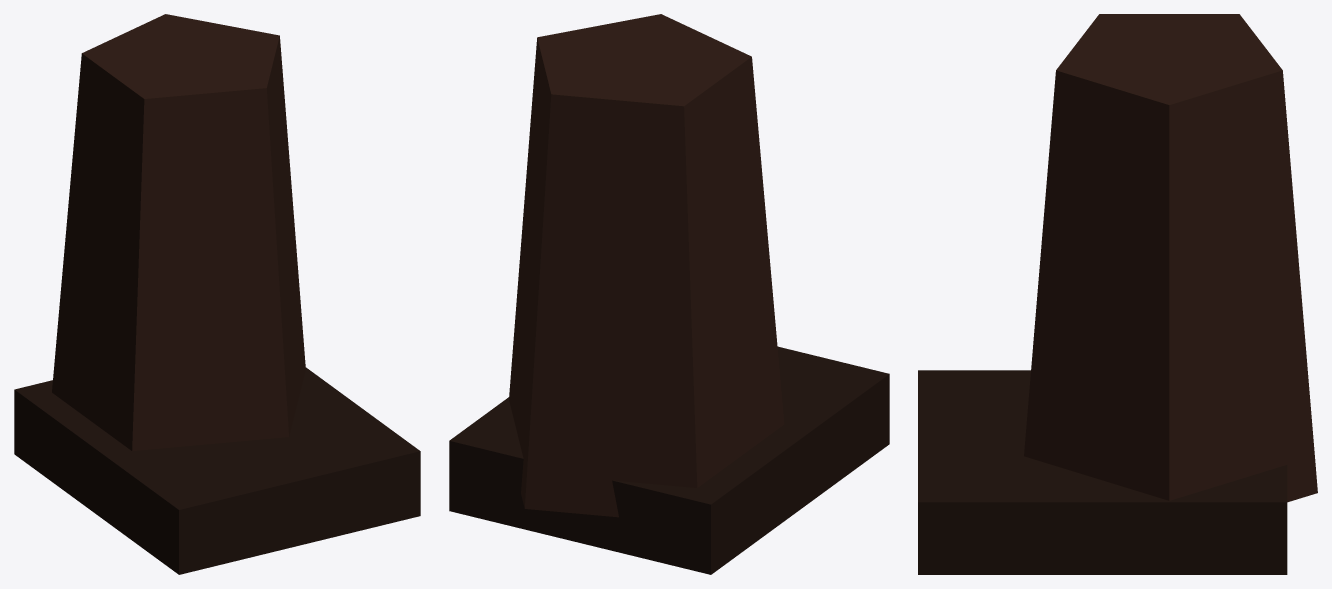
Rendered from dk_mob_boar_leg.glb.
3 renders of one model, left to right at view 1: azimuth 30°, elevation 25°; view 2: azimuth 150°, elevation 25°; view 3: azimuth 270°, elevation 25°, orthographic. The views are drawn at different scales.
Parts seen in each view (by area): view 1: dk_mob_boar_leg; view 2: dk_mob_boar_leg; view 3: dk_mob_boar_leg.
Boxes of the visible parts, x1,y1,x2,y2 form: dk_mob_boar_leg: (14, 14, 420, 574); dk_mob_boar_leg: (449, 14, 889, 574); dk_mob_boar_leg: (918, 14, 1317, 574).
Size of the model in its own units: 0.374 by 0.6 by 0.4788.
Materials: 1 (1 with a texture image).
